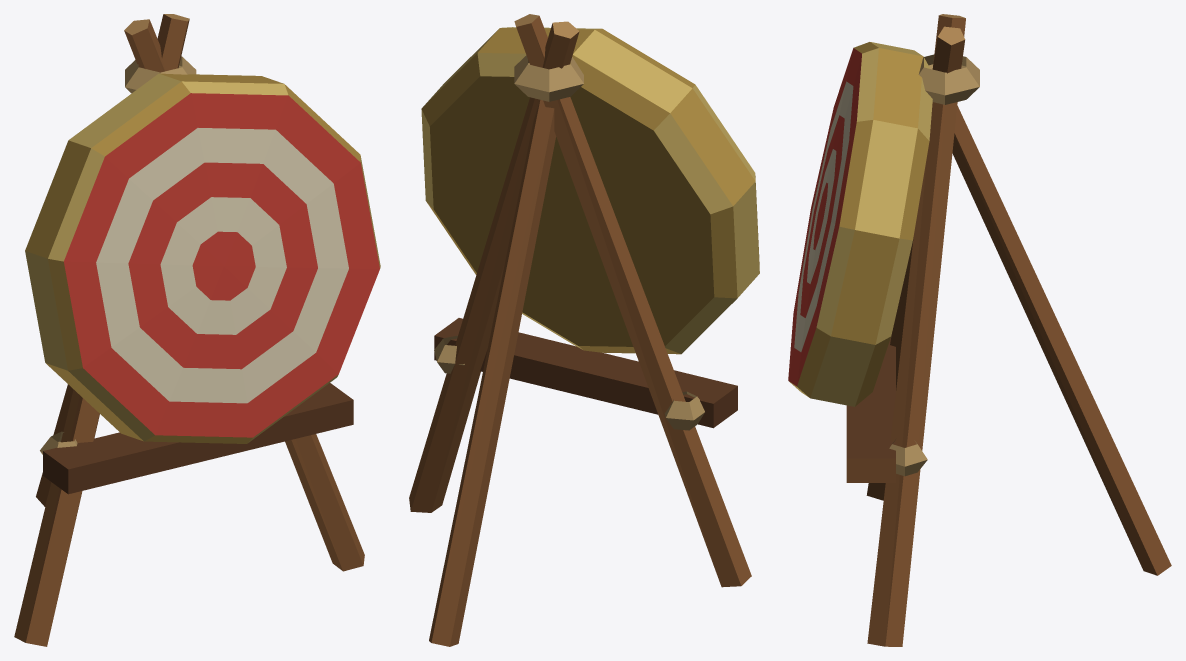
File: target_1.glb
3 views of the same model, side by side, from view 1: azimuth 30°, elevation 25°; view 2: azimuth 150°, elevation 25°; view 3: azimuth 270°, elevation 25° (orthographic). The views are drawn at different scales.
Visible parts, largest first — view 1: target_1; view 2: target_1; view 3: target_1.
Boxes of the visible parts, box(x1,y1,x2,y2) form: target_1: box(14, 14, 380, 646); target_1: box(409, 14, 759, 646); target_1: box(788, 14, 1171, 646).
Size of the model in its own units: 0.8709 by 1.35 by 0.8575.
